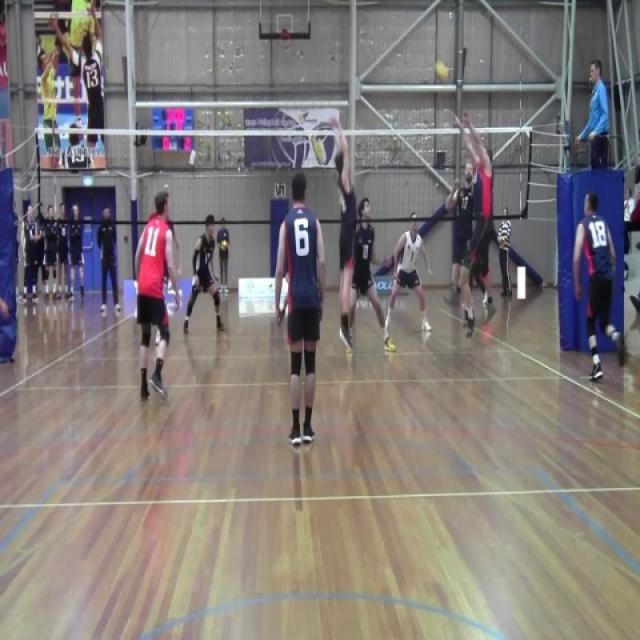volleyball: (432, 57, 450, 88), (219, 238, 229, 253)
